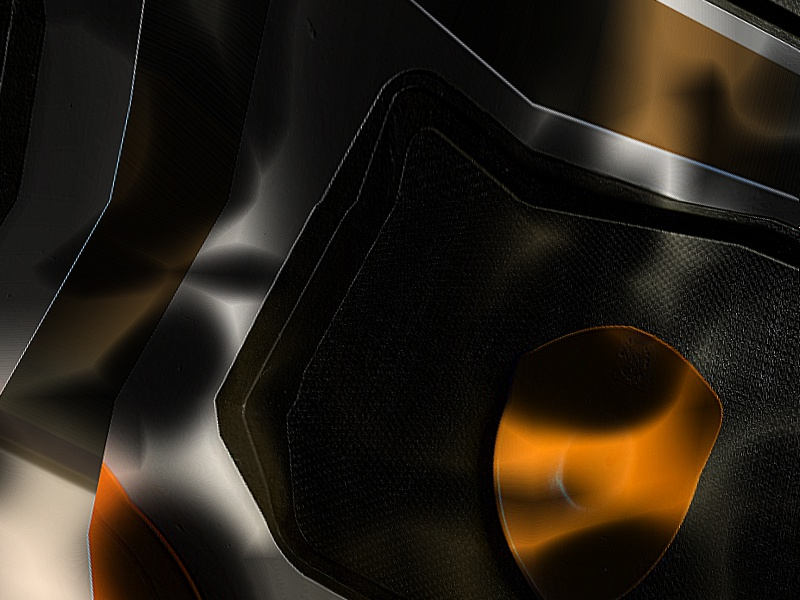dish11: (418, 296, 744, 599)
